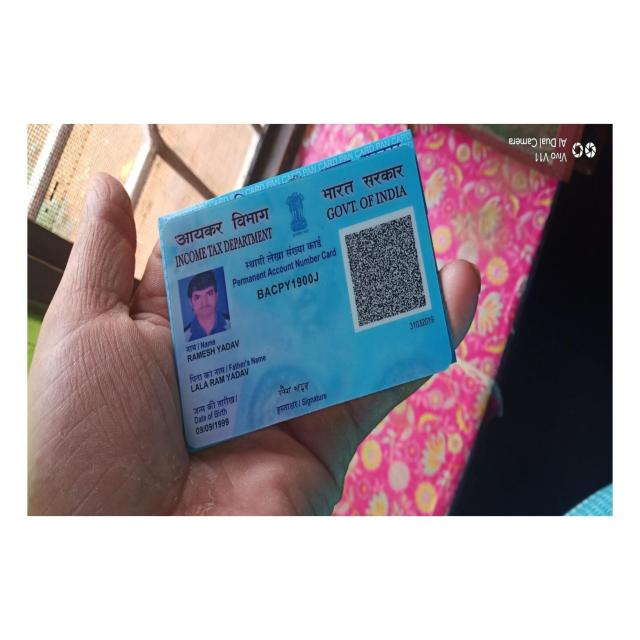pan_card: (164, 142, 449, 452)
